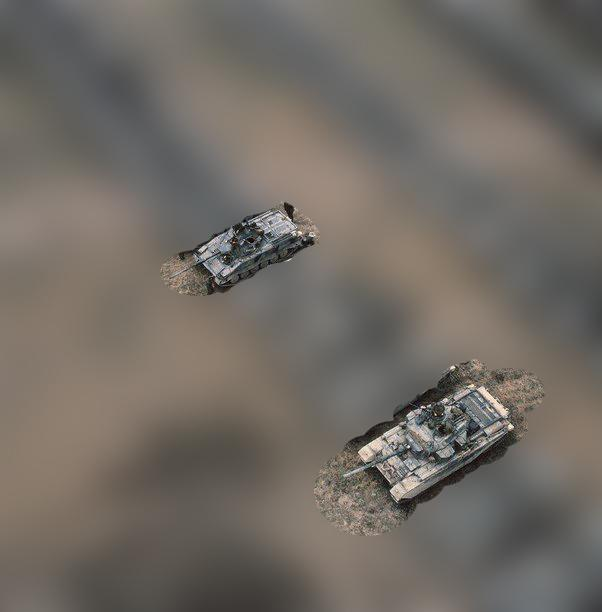tank: (339, 386, 516, 507), (172, 206, 316, 296)
